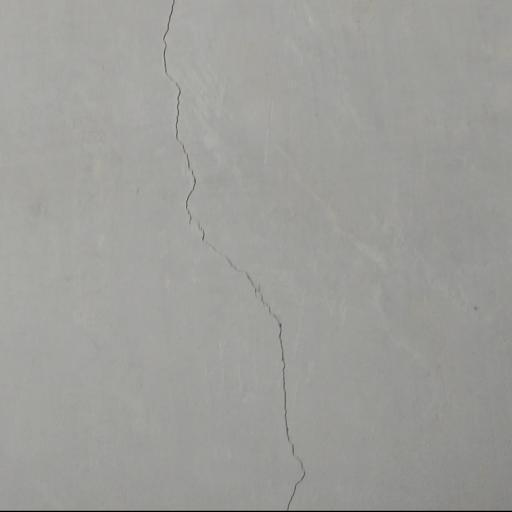minor_crack: (143, 0, 323, 508)
